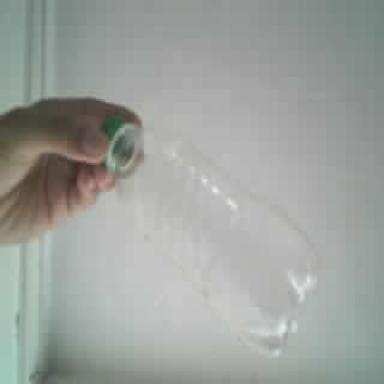bottle: (104, 118, 316, 354)
